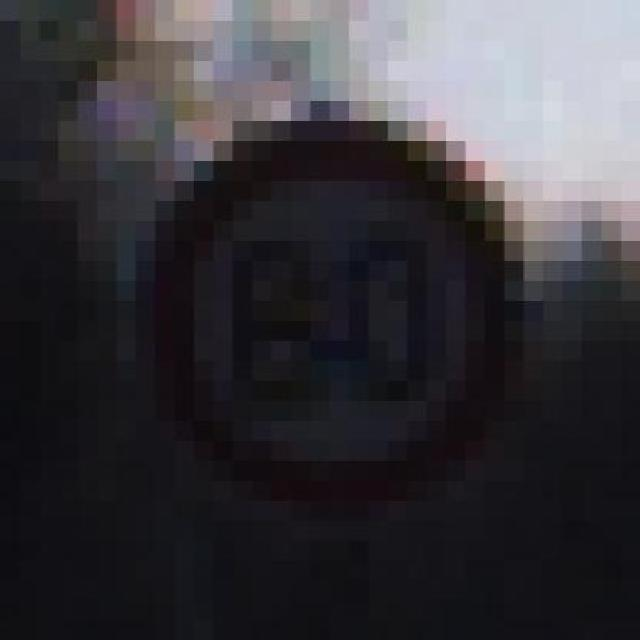forb_speed_over_80: (149, 118, 523, 514)
